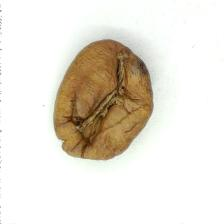NG: (68, 48, 139, 139)
